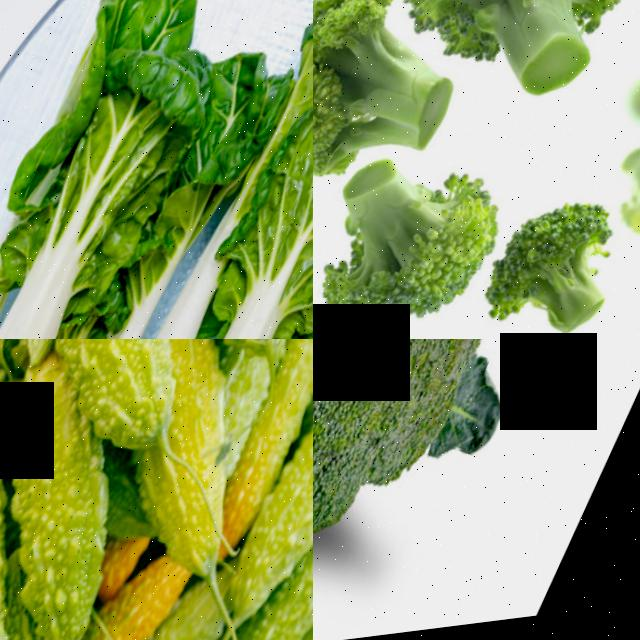bitter gourd: (7, 339, 238, 489), (0, 446, 150, 640), (238, 339, 313, 628)
bok choy: (0, 0, 289, 339), (87, 0, 313, 339)
broccoli: (313, 339, 640, 640), (313, 0, 504, 225), (313, 136, 516, 339), (379, 0, 640, 131), (456, 169, 640, 339), (603, 139, 640, 269)
